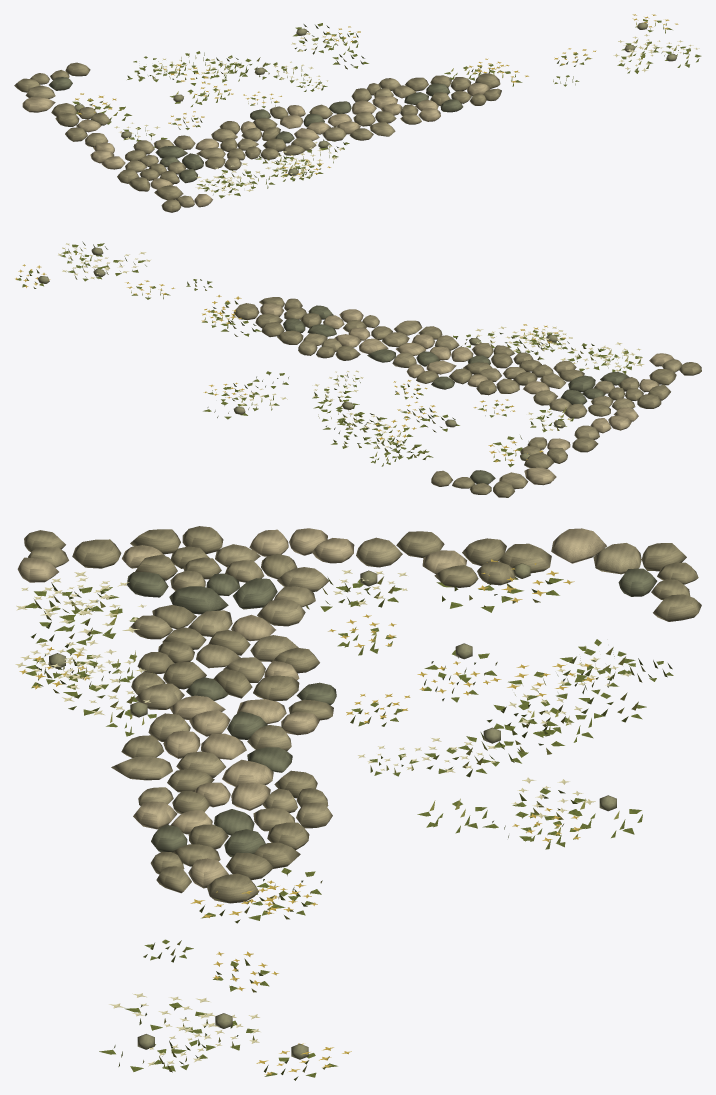
File: detail-patch-03-03.fbx
3 views of the same model, one above another, from view 1: azimuth 30°, elevation 25°; view 2: azimuth 150°, elevation 25°; view 3: azimuth 270°, elevation 25° (orthographic). The views are drawn at different scales.
Parts seen in each view (by area): view 1: detail-patch-03-03__Geometry; view 2: detail-patch-03-03__Geometry; view 3: detail-patch-03-03__Geometry.
Boxes of the visible parts, x1,y1,x2,y2 form: detail-patch-03-03__Geometry: [14, 14, 701, 212]; detail-patch-03-03__Geometry: [15, 241, 701, 497]; detail-patch-03-03__Geometry: [15, 526, 701, 1080].
Bounding box in the file's own units: 9.56 × 0.1212 × 5.07.
1 material, 1 textured.
